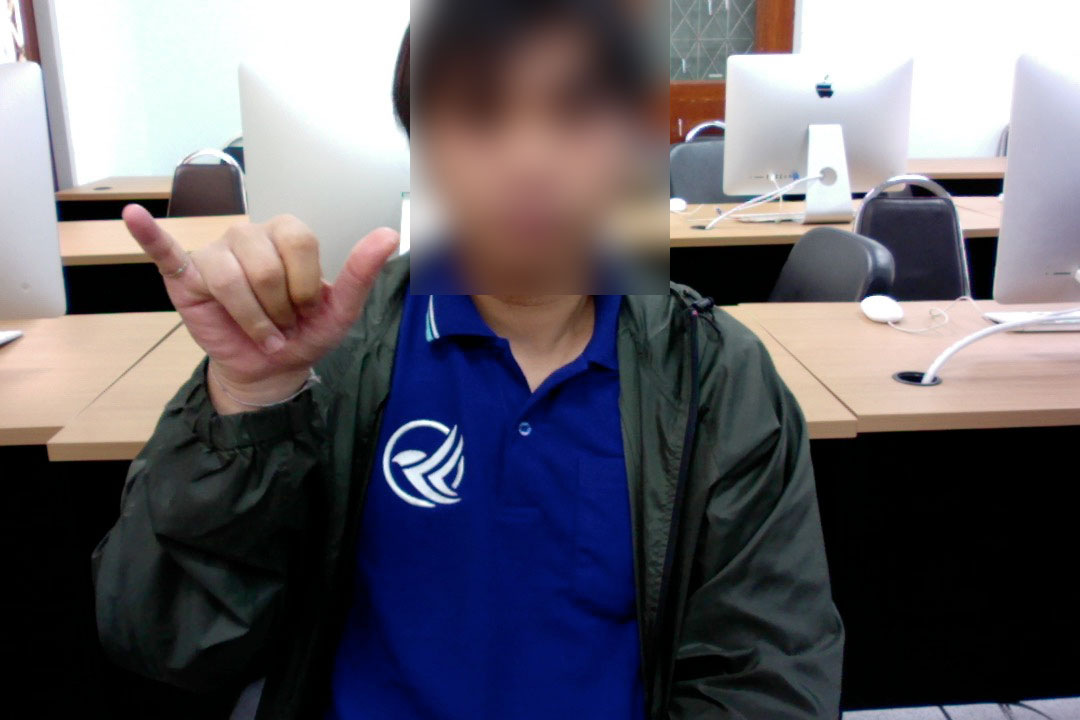yor: (111, 189, 435, 413)
